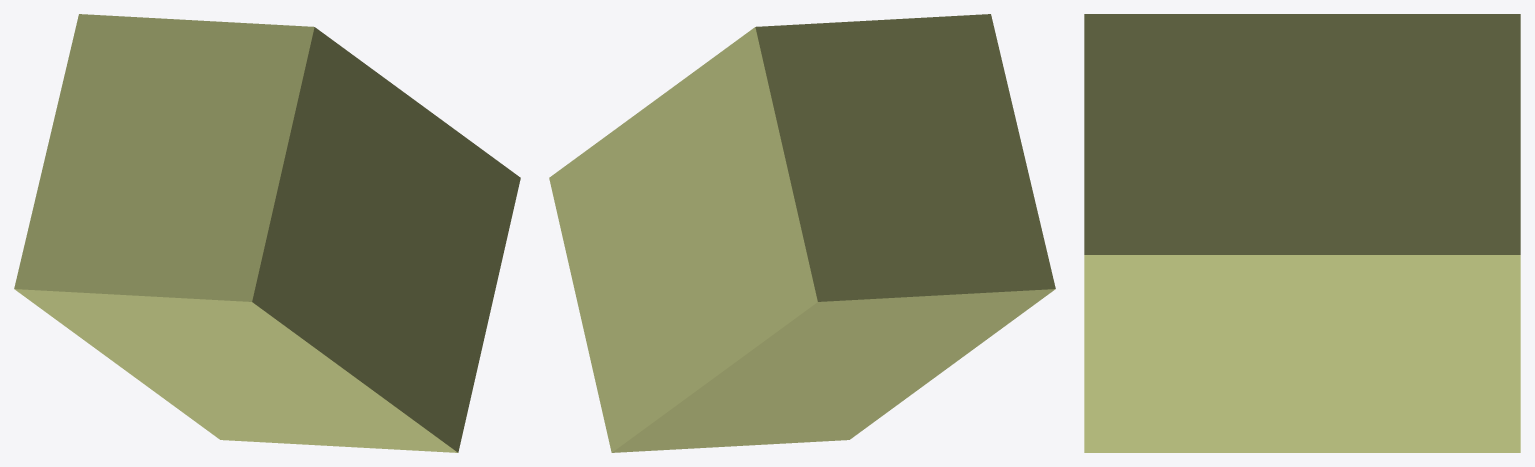
3 renders of one model, left to right at view 1: azimuth 30°, elevation 25°; view 2: azimuth 150°, elevation 25°; view 3: azimuth 270°, elevation 25°, orthographic. The views are drawn at different scales.
Visible parts, largest first — view 1: 0_1_2_0_1_3_0_2_3_1; view 2: 0_1_2_0_1_3_0_2_3_1; view 3: 0_1_2_0_1_3_0_2_3_1.
Part boxes in pixels (x1,y1,x2,y2): 0_1_2_0_1_3_0_2_3_1: (14, 14, 520, 452); 0_1_2_0_1_3_0_2_3_1: (549, 14, 1055, 452); 0_1_2_0_1_3_0_2_3_1: (1084, 14, 1520, 452).
Size of the model in its own units: 5.05 by 5.3 by 6.
